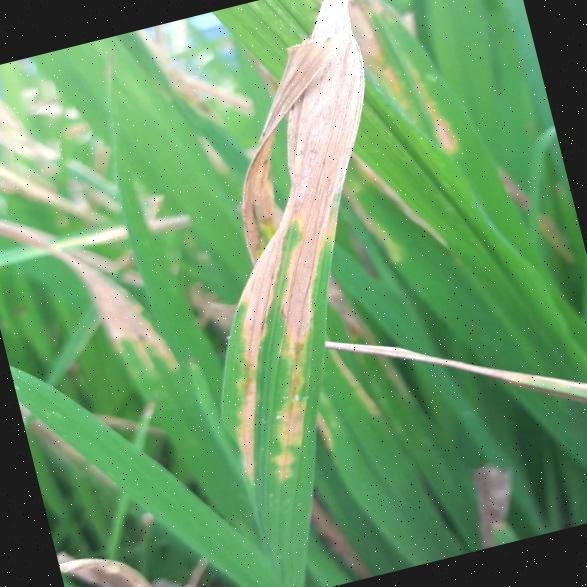Bacteria_Leaf_Blight: (128, 0, 462, 502)
